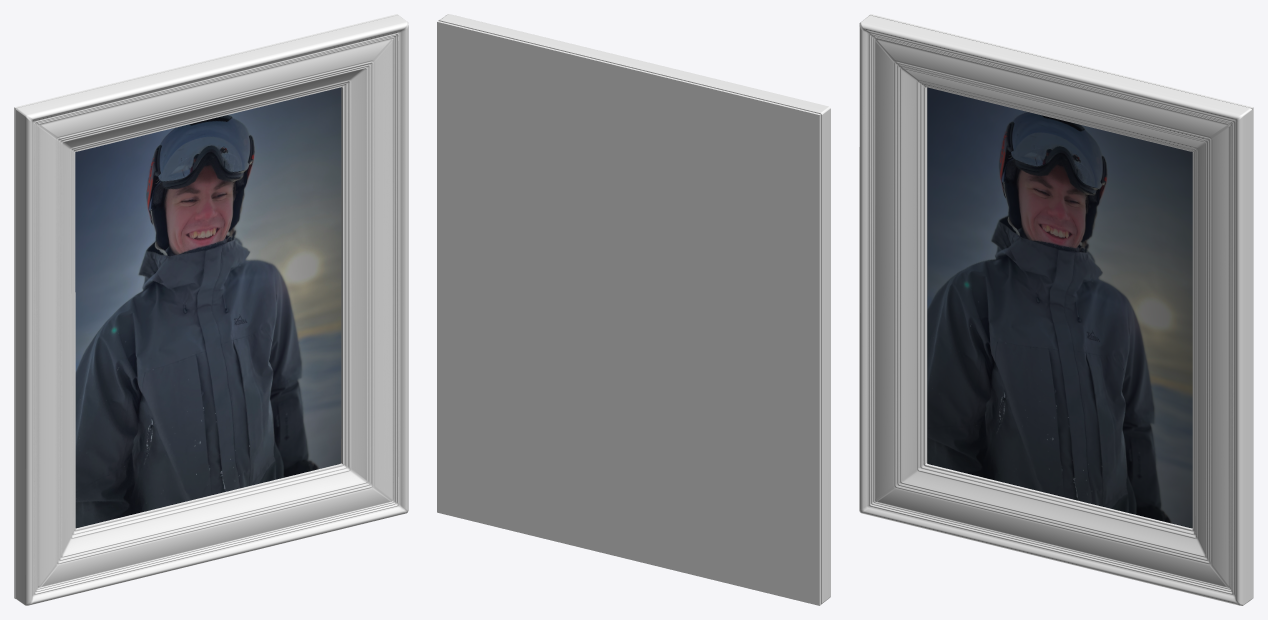
The model's file is jakob.glb.
The picture shows the model from 3 angles, left to right: view 1: azimuth 30°, elevation 25°; view 2: azimuth 150°, elevation 25°; view 3: azimuth 330°, elevation 25°; orthographic projection.
Visible parts, largest first — view 1: mesh_id115, node_id94, mesh_id118; view 2: mesh_id118, node_id94; view 3: mesh_id115, node_id94, mesh_id118.
Boxes of the visible parts, <box> form: mesh_id115: <box>75,87,341,528</box>; node_id94: <box>16,15,408,605</box>; mesh_id118: <box>14,14,398,598</box>; mesh_id118: <box>437,21,820,605</box>; node_id94: <box>438,14,830,604</box>; mesh_id115: <box>927,87,1192,528</box>; node_id94: <box>859,15,1252,605</box>; mesh_id118: <box>869,14,1253,598</box>.
Bounding box in the file's own units: 0.3877 × 0.4744 × 0.0224.
3 materials, 3 textured.
